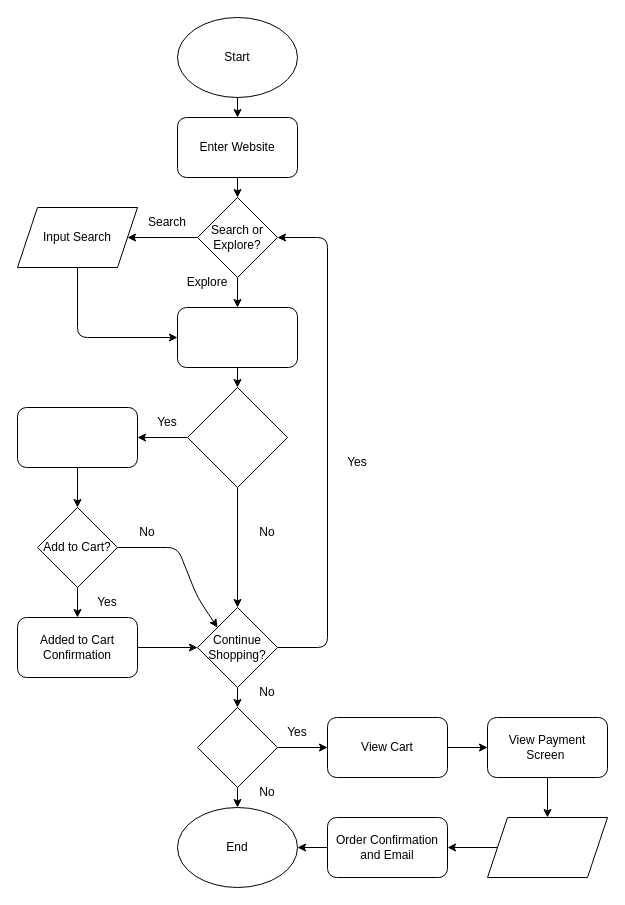
Some shapes in this 625 by 905 pixel diagram are drawn without their labels. The centre of each missing label's shape, as x and y in pixels:
"Checkout?" belongs at point 237,747.
"Input Payment Information" belongs at point 547,847.
"Look Over Products" belongs at point 237,337.
"Open Product Page" belongs at point 77,437.
"View Specific Product?" belongs at point 237,437.
